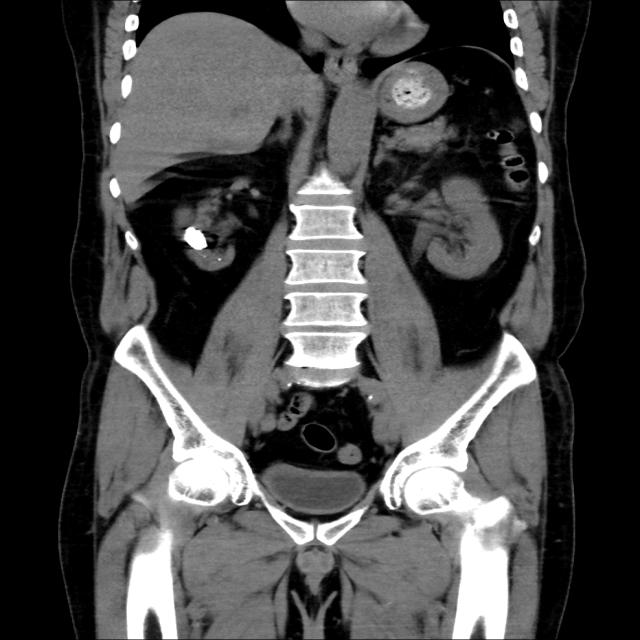kidneystone: (183, 226, 208, 249)
